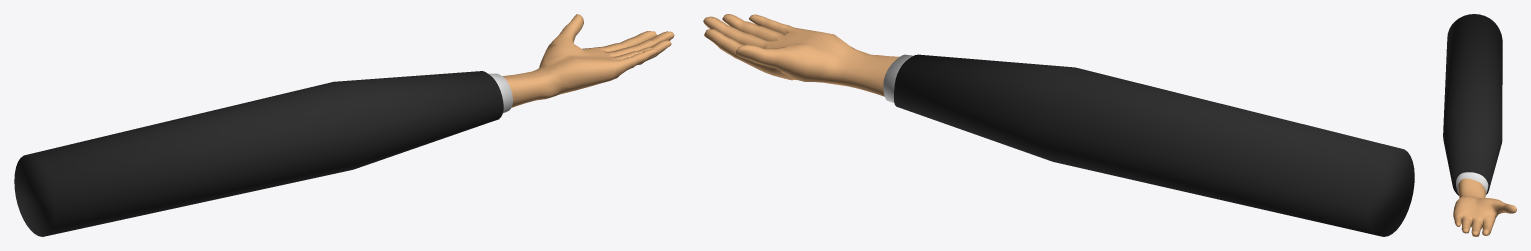
The model's file is solEl.fbx.
3 renders of one model, left to right at view 1: azimuth 30°, elevation 25°; view 2: azimuth 150°, elevation 25°; view 3: azimuth 270°, elevation 25°, orthographic. The views are drawn at different scales.
Parts seen in each view (by area): view 1: Cylinder.002; view 2: Cylinder.002; view 3: Cylinder.002.
Boxes of the visible parts, x1=… form: Cylinder.002: x1=14, y1=14, x2=674, y2=236; Cylinder.002: x1=703, y1=14, x2=1414, y2=236; Cylinder.002: x1=1443, y1=14, x2=1516, y2=236.
Size of the model in its own units: 11.44 by 1.41 by 1.78.
